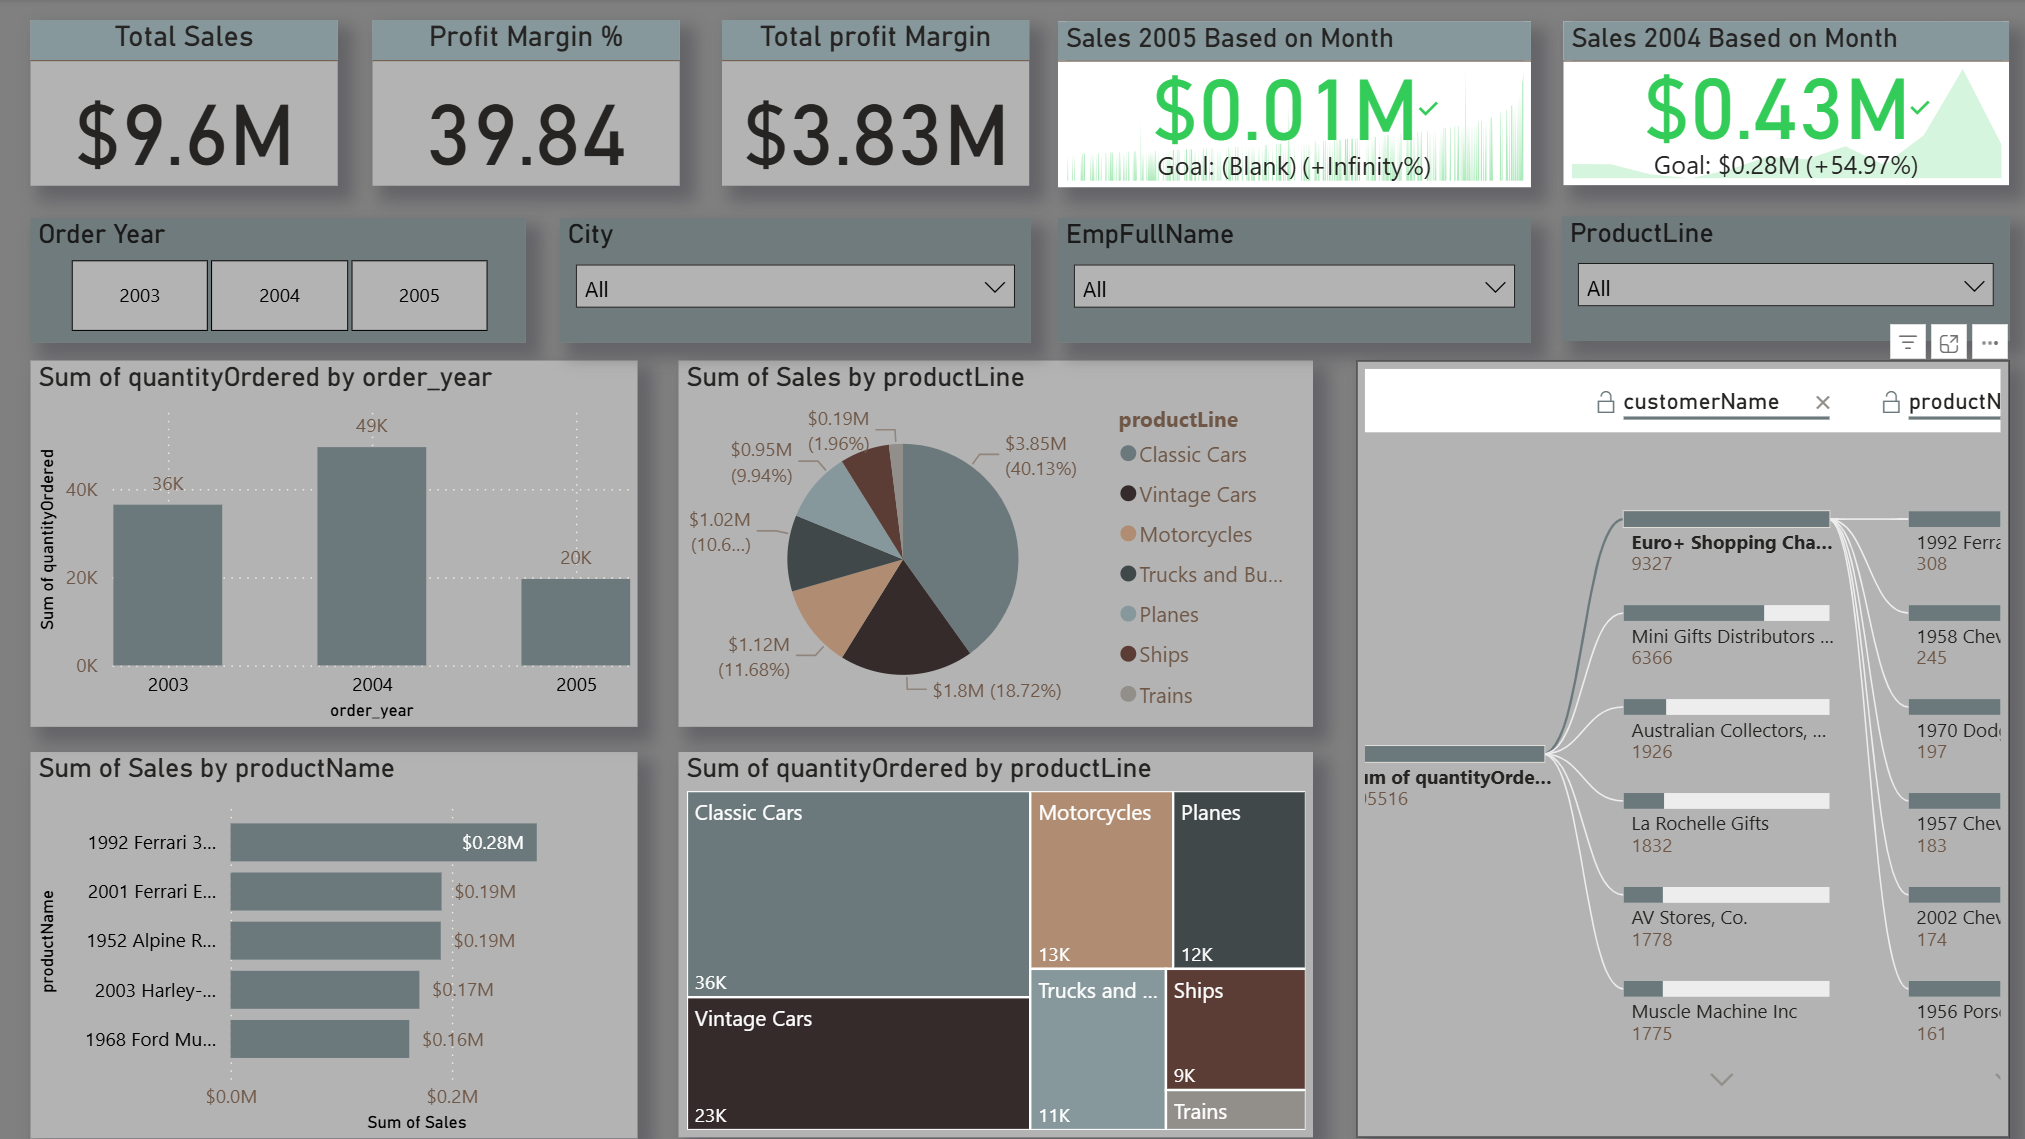

What the dashboard file says about the page in this screenshot:
{"tool":"powerbi","page":{"name":"Page 1","canvas":[1280,720],"ordinal":0},"visuals":[{"type":"card","title":"Total profit Margin","fields":{"Values":["Order details.total_profit"]},"box":[456.7,12.9,193.9,104.8],"z":0},{"type":"barChart","fields":{"Category":["products.productName"],"Y":["Order details.Sales"]},"box":[20.1,475.3,383.4,244.1],"z":1000},{"type":"pieChart","fields":{"Category":["products.productLine"],"Y":["Order details.Sales"]},"box":[429.5,228.1,400.9,231.1],"z":2000},{"type":"slicer","title":"Order Year","fields":{"Values":["orders.order_year"]},"box":[20,138.6,312.9,78.6],"z":3000},{"type":"kpi","title":"Sales 2004 Based on Month","fields":{"Indicator":["orders.sales_2004"],"Goal":["orders.sales_2003"],"TrendLine":["orders.Month Name"]},"box":[988,14.4,281.5,103.4],"z":4000},{"type":"kpi","title":"Sales 2005 Based on Month","fields":{"Indicator":["orders.sales_2005"],"Goal":["orders.sales_2004"],"TrendLine":["Order details.Sales"]},"box":[669.2,14.4,298.7,104.8],"z":5000},{"type":"treemap","fields":{"Group":["product lines.productLine"],"Values":["Order details.quantityOrdered"]},"box":[429.5,475.6,400.9,243.4],"z":6000},{"type":"clusteredColumnChart","fields":{"Category":["orders.order_year"],"Y":["Order details.quantityOrdered"]},"box":[20.1,228.3,383.4,231.2],"z":7000},{"type":"card","title":"Profit Margin %","fields":{"Values":["classic_models_dataset.Profit_Margin_%"]},"box":[235.5,12.9,193.9,104.8],"z":8000},{"type":"card","title":"Total Sales","fields":{"Values":["Order details.Sales"]},"box":[20.1,12.9,193.9,104.8],"z":9000},{"type":"slicer","title":"City","fields":{"Values":["offices.city"]},"box":[354.3,138.6,297.1,78.6],"z":10000},{"type":"slicer","title":"EmpFullName","fields":{"Values":["employees.Employee Full name"]},"box":[668.6,138.6,298.6,78.6],"z":11000},{"type":"slicer","title":"ProductLine","fields":{"Values":["product lines.productLine"]},"box":[987.1,137.1,282.9,78.6],"z":12000},{"type":"decompositionTreeVisual","fields":{"Analyze":["Order details.quantityOrdered"],"ExplainBy":["customers.customerName","products.productName","product lines.productLine"]},"box":[857,228.6,411.9,490.6],"z":13000}]}

Visuals, with their boxes in screenshot pixels (x1, y1, x2, y2), scaled from the page's 1280x720 canvas onto the 2025x1139 screenshot:
"Total profit Margin" card: 723,20,1029,186
barChart - products.productName x Order details.Sales: 32,752,638,1138
pieChart - products.productLine x Order details.Sales: 679,361,1314,726
"Order Year" slicer: 32,219,527,344
"Sales 2004 Based on Month" kpi: 1563,23,2008,186
"Sales 2005 Based on Month" kpi: 1059,23,1531,189
treemap - product lines.productLine x Order details.quantityOrdered: 679,752,1314,1137
clusteredColumnChart - orders.order_year x Order details.quantityOrdered: 32,361,638,727
"Profit Margin %" card: 373,20,679,186
"Total Sales" card: 32,20,339,186
"City" slicer: 561,219,1031,344
"EmpFullName" slicer: 1058,219,1530,344
"ProductLine" slicer: 1562,217,2009,341
decompositionTreeVisual - Order details.quantityOrdered x customers.customerName: 1356,362,2007,1138
